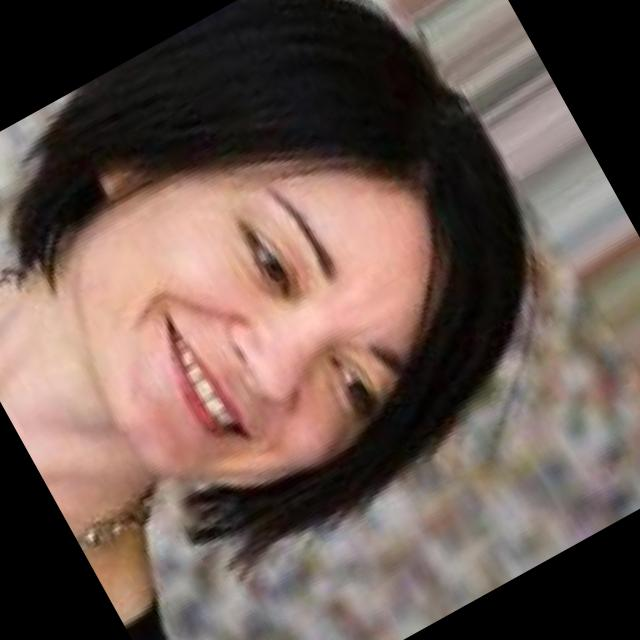bareface: (0, 0, 558, 562)
